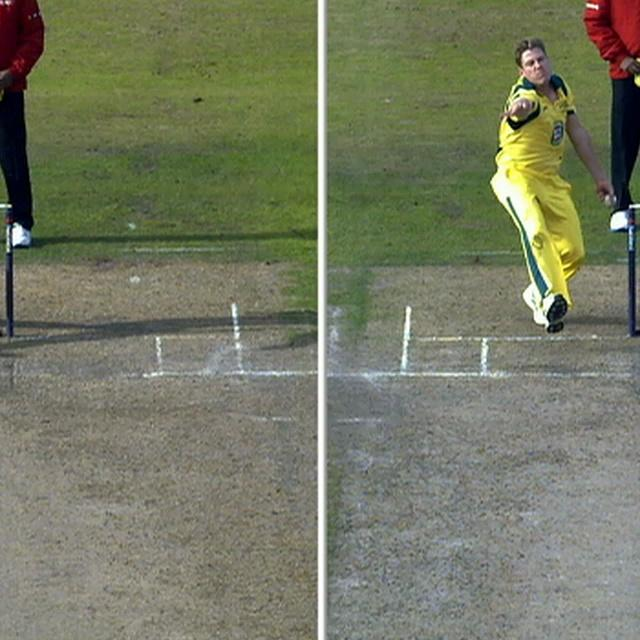umpire: (572, 0, 640, 234)
